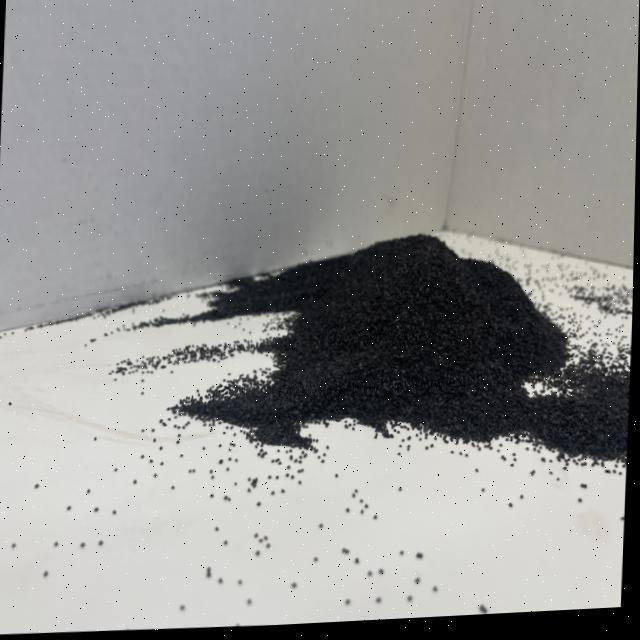Poppy Seeds: (191, 173, 635, 507)
